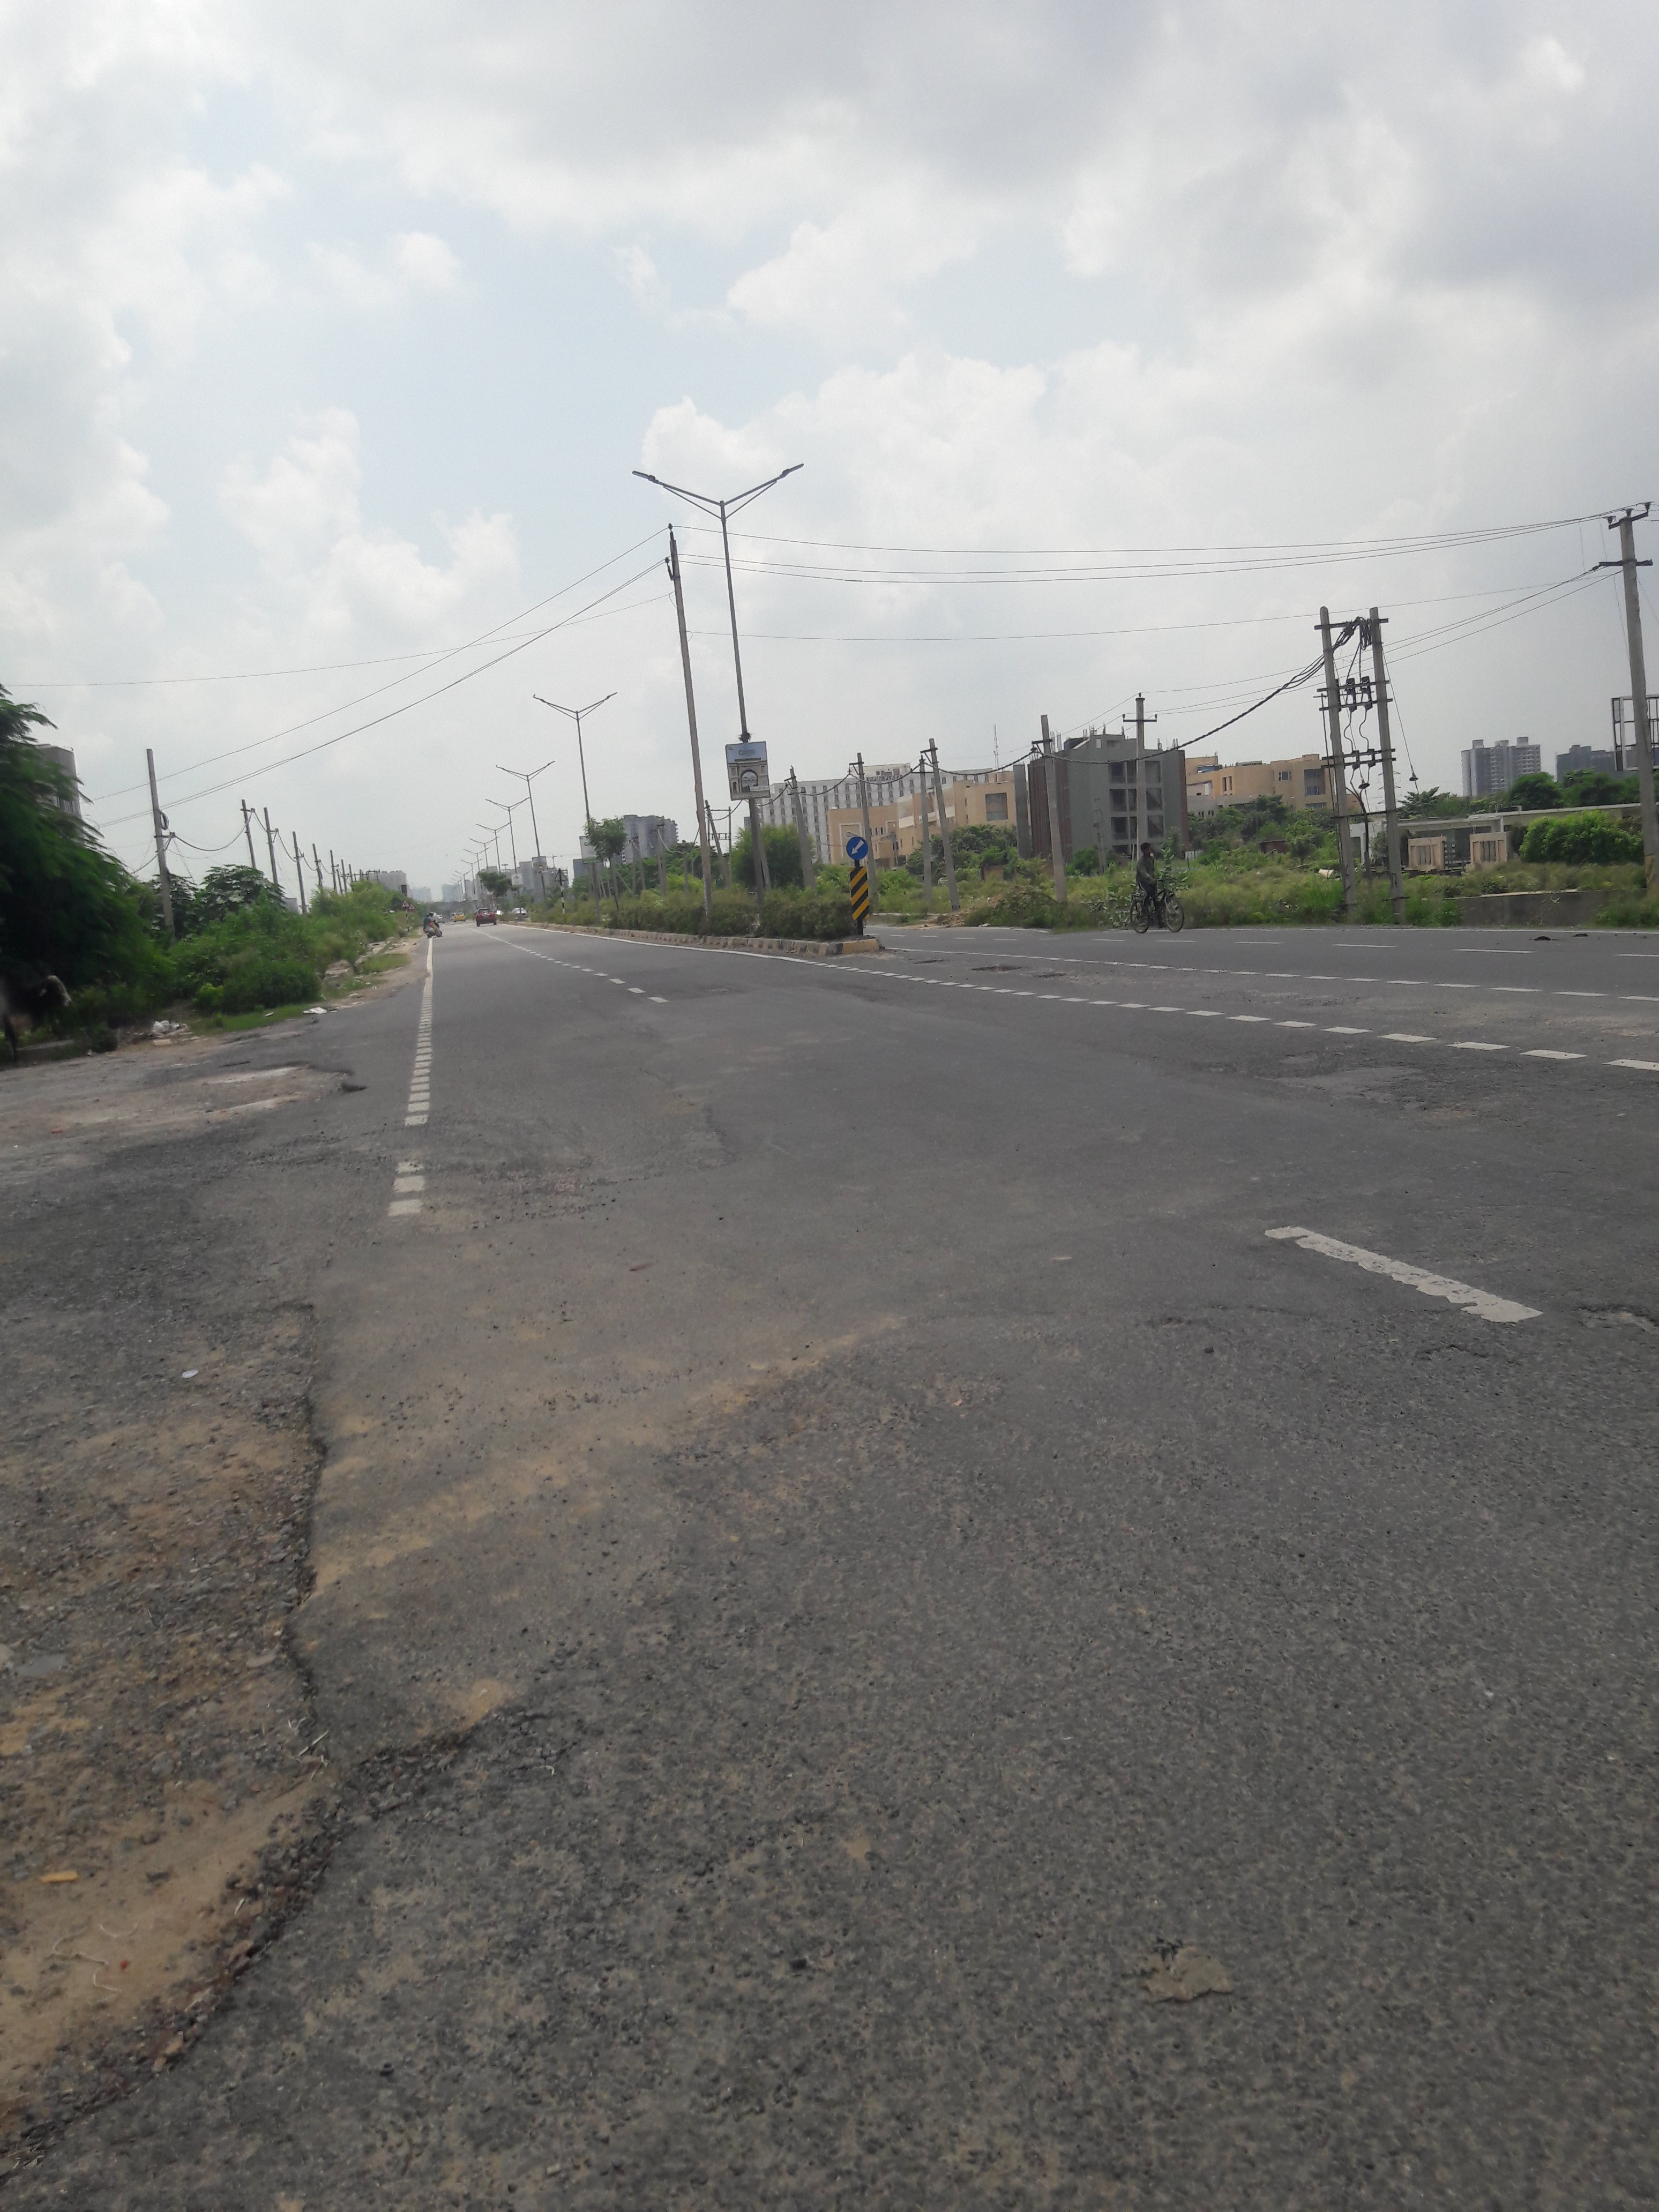traffic_sign: (845, 836, 868, 860), (552, 867, 566, 881)
